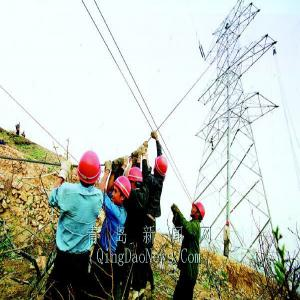red: (77, 150, 103, 189), (112, 176, 132, 207), (152, 155, 168, 180), (190, 200, 206, 223), (129, 168, 144, 192), (226, 221, 230, 229)
